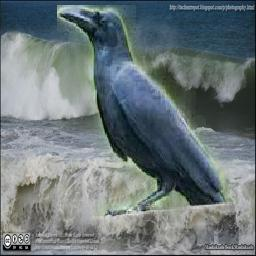Crow: (57, 6, 239, 245)
